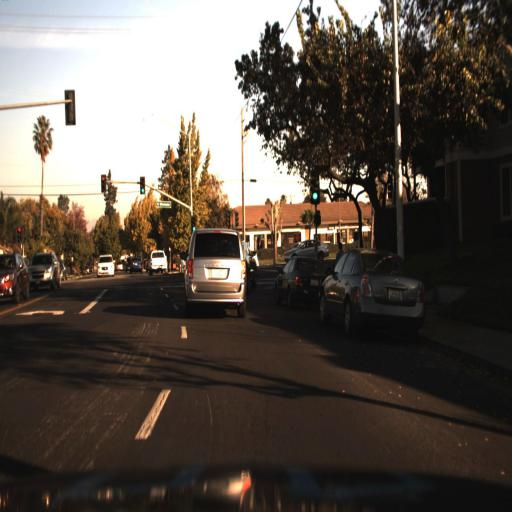car: (318, 251, 434, 337), (181, 223, 250, 317), (270, 258, 334, 309), (29, 253, 63, 289), (288, 236, 331, 260), (149, 245, 169, 278), (95, 251, 119, 278), (125, 251, 148, 276)
trafficLight: (308, 164, 322, 207)
trafficLight-Green: (190, 214, 199, 239), (138, 172, 146, 197)
trafficLight-RedLeft: (99, 170, 109, 198), (15, 222, 24, 246)
